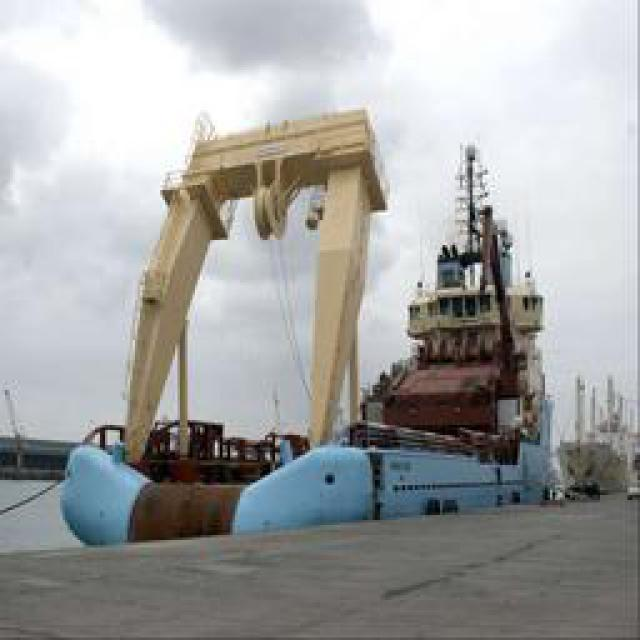Ship: (53, 73, 570, 546)
